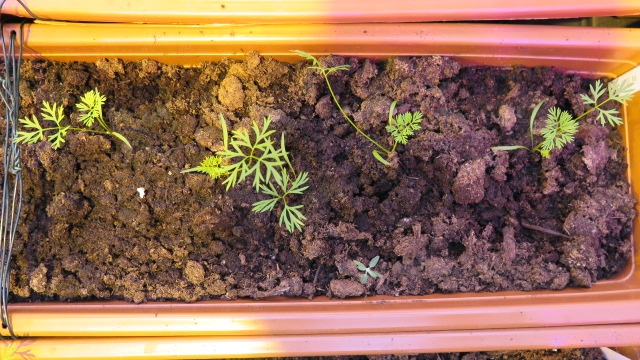crop: (287, 47, 423, 167), (194, 114, 308, 235), (494, 74, 638, 164), (7, 86, 135, 150)
weed: (353, 254, 384, 285)
